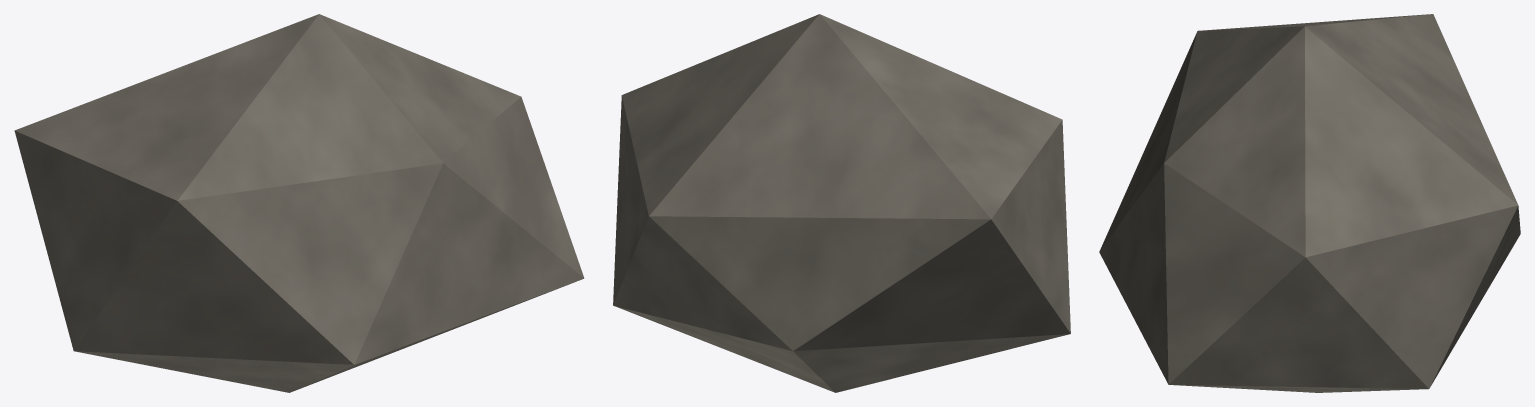
Rendered from rock_small.glb.
3 renders of one model, left to right at view 1: azimuth 30°, elevation 25°; view 2: azimuth 150°, elevation 25°; view 3: azimuth 270°, elevation 25°, orthographic. The views are drawn at different scales.
Parts seen in each view (by area): view 1: Stone; view 2: Stone; view 3: Stone.
Part boxes in pixels (x1,y1,x2,y2): Stone: [14, 14, 584, 392]; Stone: [613, 14, 1070, 392]; Stone: [1099, 14, 1520, 392].
Size of the model in its own units: 2.04 by 1.62 by 1.64.
Materials: 1 (1 with a texture image).
